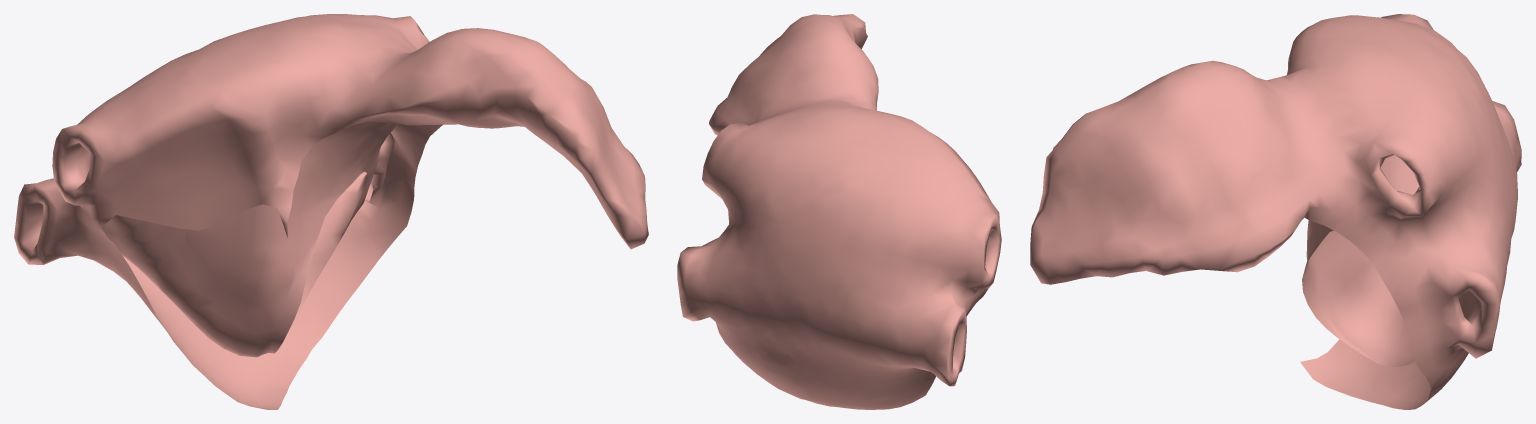
The model's file is atrio_esquerdo.glb.
3 views of the same model, side by side, from view 1: azimuth 30°, elevation 25°; view 2: azimuth 150°, elevation 25°; view 3: azimuth 270°, elevation 25° (orthographic). The views are drawn at different scales.
Parts seen in each view (by area): view 1: atrio_esquerdo; view 2: atrio_esquerdo; view 3: atrio_esquerdo.
Part boxes in pixels (bbox=[...]): atrio_esquerdo: bbox=[14, 14, 648, 409]; atrio_esquerdo: bbox=[677, 14, 1001, 409]; atrio_esquerdo: bbox=[1030, 14, 1521, 409].
Bounding box in the file's own units: 0.0894 × 0.0752 × 0.0863.
